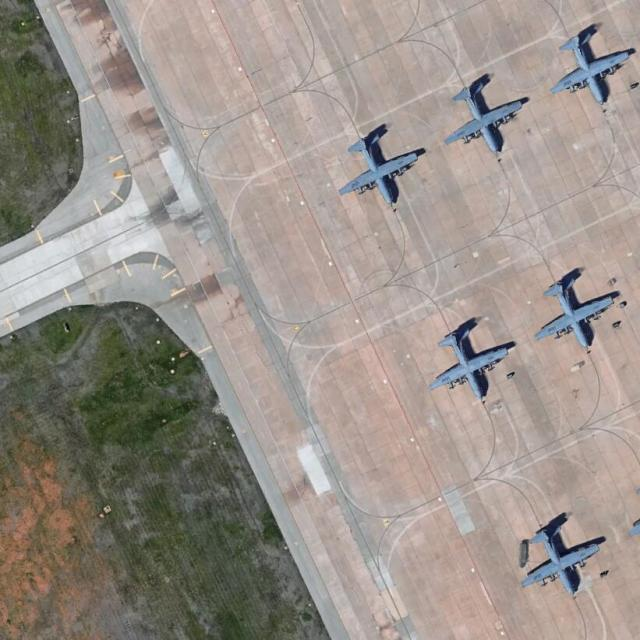fighter jet: (342, 128, 420, 207), (443, 77, 513, 161), (559, 28, 628, 110), (540, 270, 608, 352), (434, 326, 502, 401), (528, 519, 590, 595)
